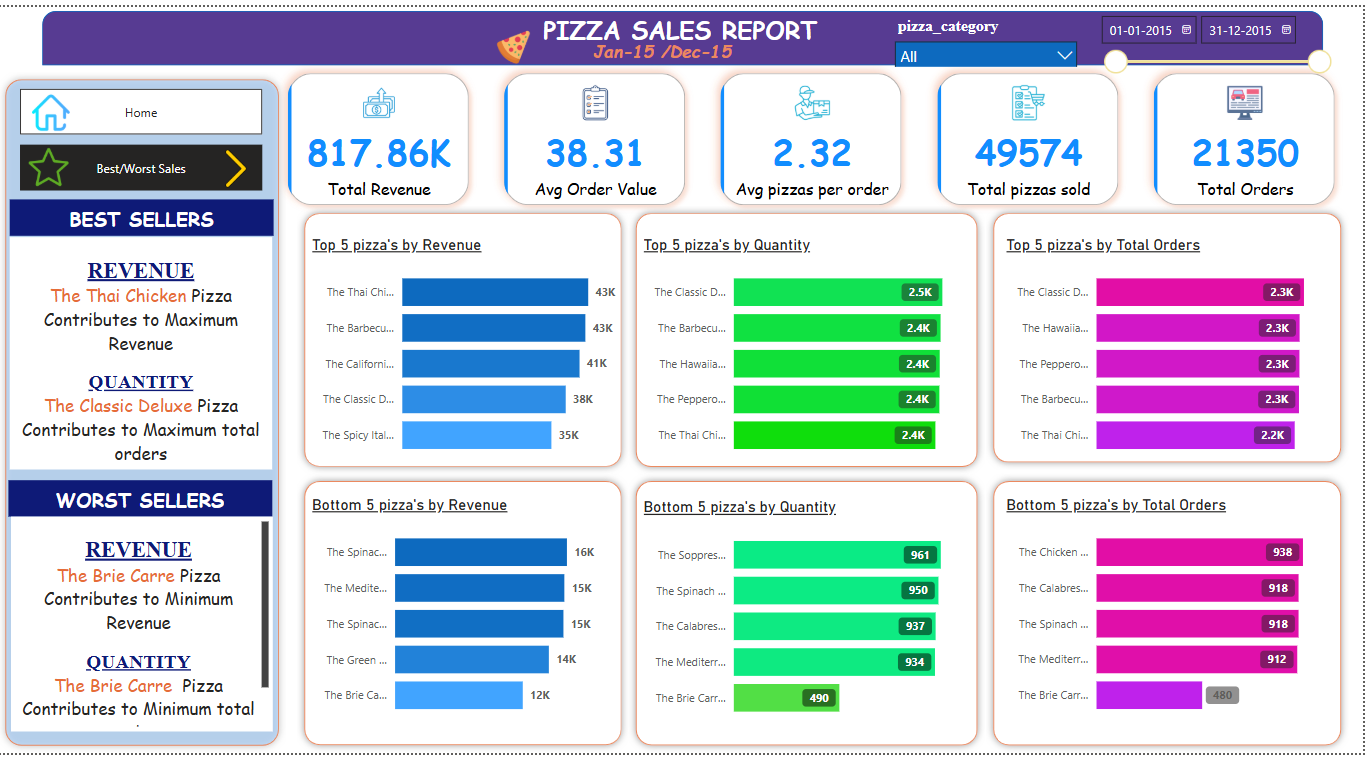

What the dashboard file says about the page in this screenshot:
{"tool":"powerbi","page":{"name":"Best/Worst Sales","canvas":[1500,820],"ordinal":1},"visuals":[{"type":"cardVisual","fields":{"Data":["pizza_sales.Total Revenue","pizza_sales.Avg Order Value","pizza_sales.Avg pizzas per order","pizza_sales.Total pizzas sold","pizza_sales.Total Orders"]},"box":[296.8,51.6,1193.5,200],"z":0},{"type":"shape","box":[48.4,4.8,1408.1,60],"z":1000},{"type":"textbox","box":[577.4,0,345.2,51.6],"z":2000},{"type":"textbox","box":[648.4,30.6,175.8,41.9],"z":3000},{"type":"image","box":[521,19.4,90.3,48.4],"z":4000},{"type":"shape","box":[328.3,218.3,365,295],"z":5000},{"type":"shape","box":[0,71.7,316.7,748.3],"z":6000},{"type":"textbox","box":[13.3,211.7,290,40],"z":7000},{"type":"textbox","box":[13.3,253.3,288.3,255],"z":8000},{"type":"textbox","box":[11.7,520,290,40],"z":9000},{"type":"textbox","box":[14,560,288,236],"z":10000},{"type":"slicer","fields":{"Values":["pizza_sales.pizza_category"]},"box":[975,5,220,60],"z":11000},{"type":"slicer","fields":{"Values":["pizza_sales.order_date"]},"box":[1200,0,273.3,90],"z":12000},{"type":"shape","box":[693.3,218.3,391.7,295],"z":13000},{"type":"shape","box":[1085,218.3,398.3,290],"z":14000},{"type":"shape","box":[328.3,513.3,365,306.7],"z":15000},{"type":"shape","box":[693.3,513.3,391.7,306.7],"z":16000},{"type":"shape","box":[1085,513.3,398.3,306.7],"z":17000},{"type":"barChart","title":"Top 5 pizza''s by Revenue","fields":{"Category":["pizza_sales.pizza_name"],"Y":["pizza_sales.Total Revenue"]},"box":[340,251.7,365,256.7],"z":18000},{"type":"barChart","title":"Bottom 5 pizza''s by Revenue","fields":{"Category":["pizza_sales.pizza_name"],"Y":["pizza_sales.Total Revenue"]},"box":[340,536.7,331.7,256.7],"z":19000},{"type":"barChart","title":"Top 5 pizza''s by Quantity","fields":{"Category":["pizza_sales.pizza_name"],"Y":["pizza_sales.Total pizzas sold"]},"box":[705,251.7,363.3,256.7],"z":20000},{"type":"barChart","title":"Bottom 5 pizza''s by Quantity","fields":{"Category":["pizza_sales.pizza_name"],"Y":["pizza_sales.Total pizzas sold"]},"box":[705,540,363.3,256.7],"z":20001},{"type":"barChart","title":"Top 5 pizza''s by Total Orders","fields":{"Category":["pizza_sales.pizza_name"],"Y":["pizza_sales.Total Orders"]},"box":[1103.3,251.7,363.3,256.7],"z":20002},{"type":"barChart","title":"Bottom 5 pizza''s by Total Orders","fields":{"Category":["pizza_sales.pizza_name"],"Y":["pizza_sales.Total Orders"]},"box":[1103.3,536.7,363.3,256.7],"z":20003},{"type":"pageNavigator","box":[24,152,266,50],"z":20004},{"type":"pageNavigator","box":[24,90,266,50],"z":20005},{"type":"image","box":[112,152,300,52],"z":20006},{"type":"image","box":[14,90,88,52],"z":20007},{"type":"image","box":[12,148,88,54],"z":20008}]}

Visuals, with their boxes in screenshot pixels (x1, y1, x2, y2), scaled from the page's 1500x820 canvas onto the 1369x759 screenshot:
cardVisual - pizza_sales.Total Revenue x pizza_sales.Avg Order Value: (271,48,1360,233)
shape: (44,4,1329,60)
textbox: (527,0,842,48)
textbox: (592,28,752,67)
image: (475,18,558,63)
shape: (300,202,633,475)
shape: (0,66,289,758)
textbox: (12,196,277,233)
textbox: (12,234,275,470)
textbox: (11,481,275,518)
textbox: (13,518,276,737)
slicer - pizza_sales.pizza_category: (890,5,1091,60)
slicer - pizza_sales.order_date: (1095,0,1345,83)
shape: (633,202,990,475)
shape: (990,202,1354,470)
shape: (300,475,633,758)
shape: (633,475,990,758)
shape: (990,475,1354,758)
"Top 5 pizza''s by Revenue" barChart: (310,233,643,471)
"Bottom 5 pizza''s by Revenue" barChart: (310,497,613,734)
"Top 5 pizza''s by Quantity" barChart: (643,233,975,471)
"Bottom 5 pizza''s by Quantity" barChart: (643,500,975,737)
"Top 5 pizza''s by Total Orders" barChart: (1007,233,1339,471)
"Bottom 5 pizza''s by Total Orders" barChart: (1007,497,1339,734)
pageNavigator: (22,141,265,187)
pageNavigator: (22,83,265,130)
image: (102,141,376,189)
image: (13,83,93,131)
image: (11,137,91,187)
